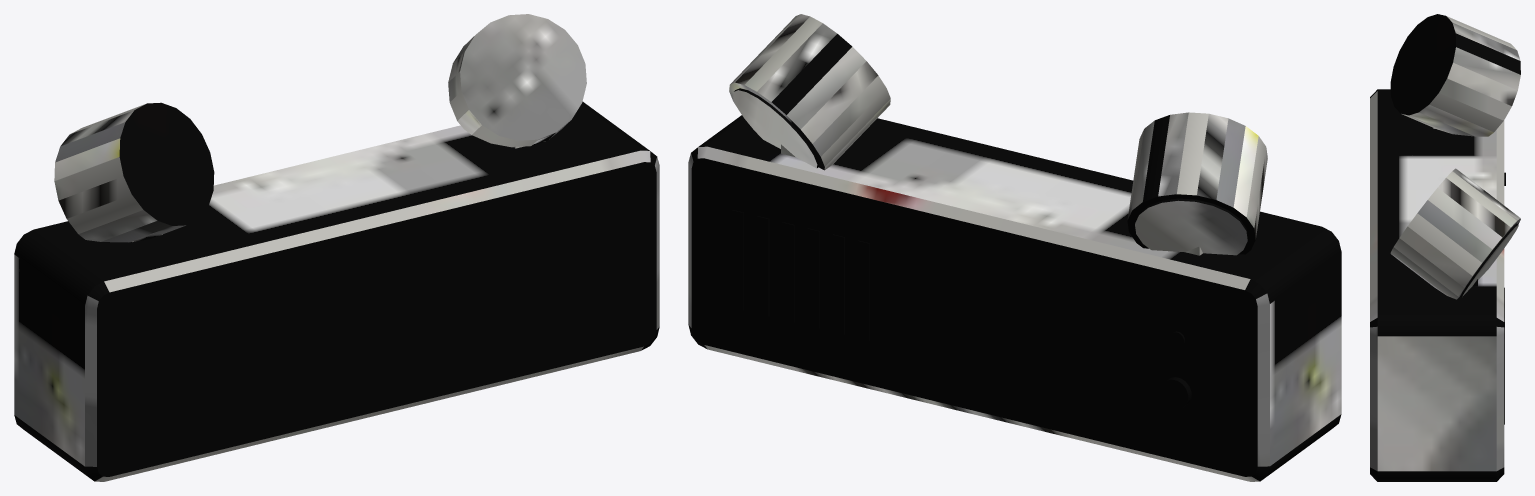
3 views of the same model, side by side, from view 1: azimuth 30°, elevation 25°; view 2: azimuth 150°, elevation 25°; view 3: azimuth 270°, elevation 25° (orthographic). The views are drawn at different scales.
Parts seen in each view (by area): view 1: body, head_l, head_r; view 2: body, head_r, head_l, lens_l_off, lens_r_off, vent_2, vent_3, vent_1, vent_4, vent_0, vent_5, test; view 3: body, head_l, head_r, lens_r_off.
Part boxes in pixels (x1,y1,x2,y2): body: (14, 101, 659, 481); head_l: (54, 102, 214, 242); head_r: (448, 14, 586, 147); body: (688, 115, 1341, 481); head_r: (729, 14, 890, 170); head_l: (1127, 112, 1267, 254); lens_l_off: (1135, 198, 1247, 255); lens_r_off: (733, 88, 818, 168); vent_2: (782, 222, 794, 322); vent_3: (807, 228, 819, 328); vent_1: (757, 216, 769, 316); vent_4: (832, 234, 844, 334); vent_0: (732, 210, 743, 310); vent_5: (858, 240, 869, 340); test: (1161, 377, 1191, 408); body: (1370, 89, 1504, 481); head_l: (1390, 14, 1520, 136); head_r: (1390, 168, 1520, 299); lens_r_off: (1460, 223, 1518, 297).
Size of the model in its own units: 0.45 by 0.2429 by 0.1215.
